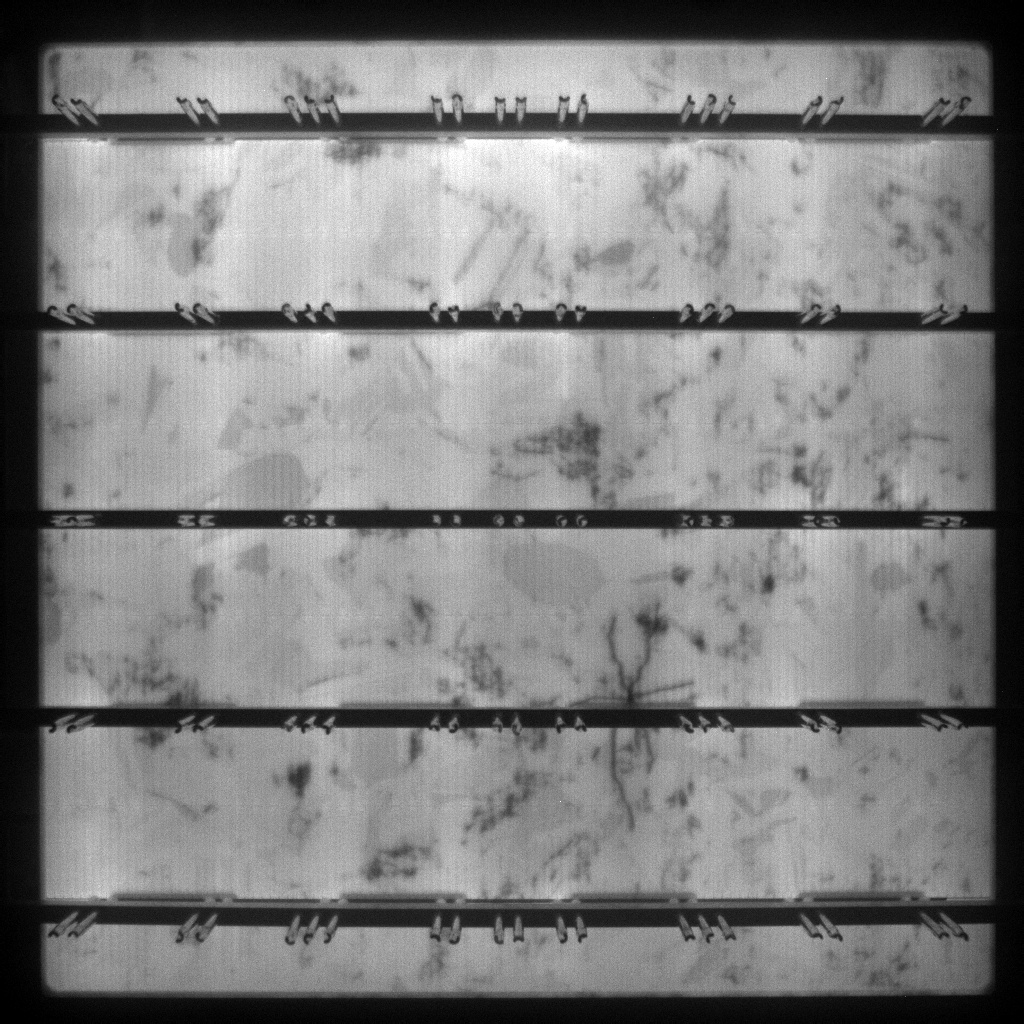crack: (569, 615, 695, 703), (607, 732, 636, 836), (632, 729, 661, 775)
